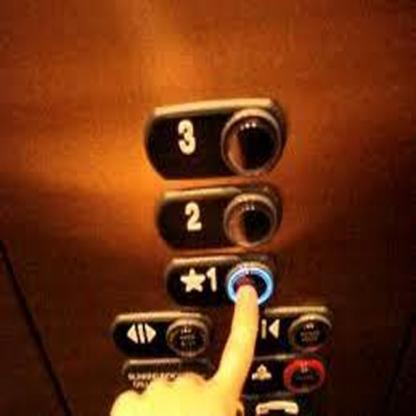2: (151, 180, 283, 252)
3: (144, 90, 290, 179)
alarm: (236, 348, 330, 398)
open: (110, 309, 216, 357)
s1: (163, 252, 281, 308)
